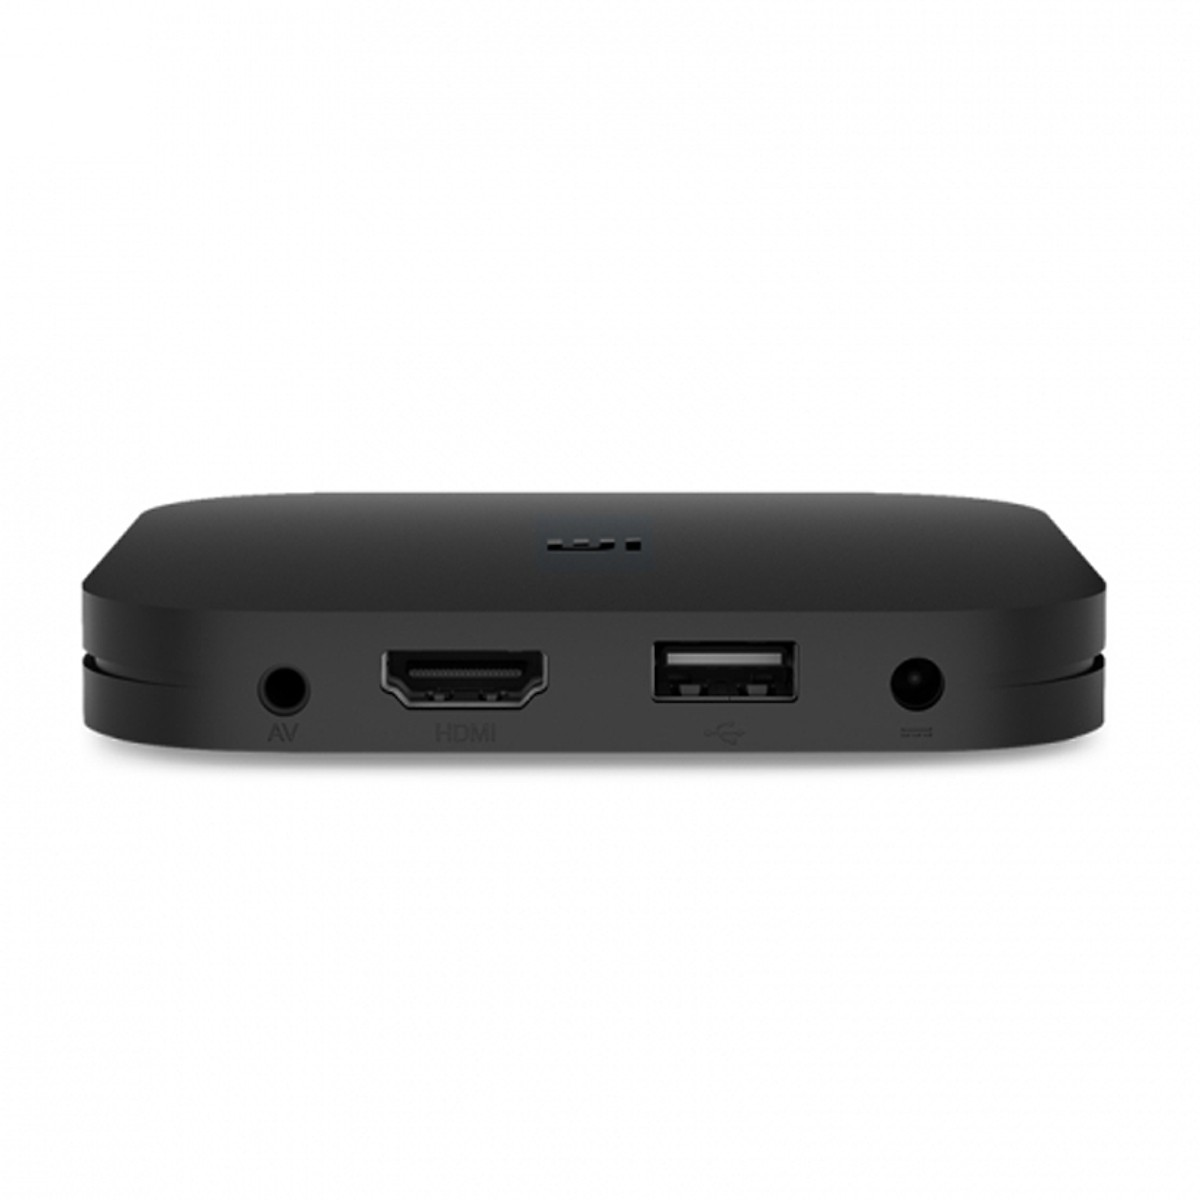Xiaomi: (452, 504, 699, 620)
